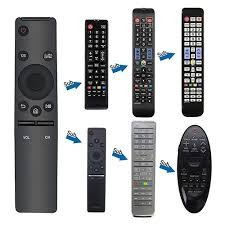remote control: (15, 14, 59, 215), (178, 122, 213, 218), (180, 10, 210, 119), (132, 5, 158, 118), (134, 121, 158, 220), (84, 18, 110, 109), (88, 121, 110, 216)
